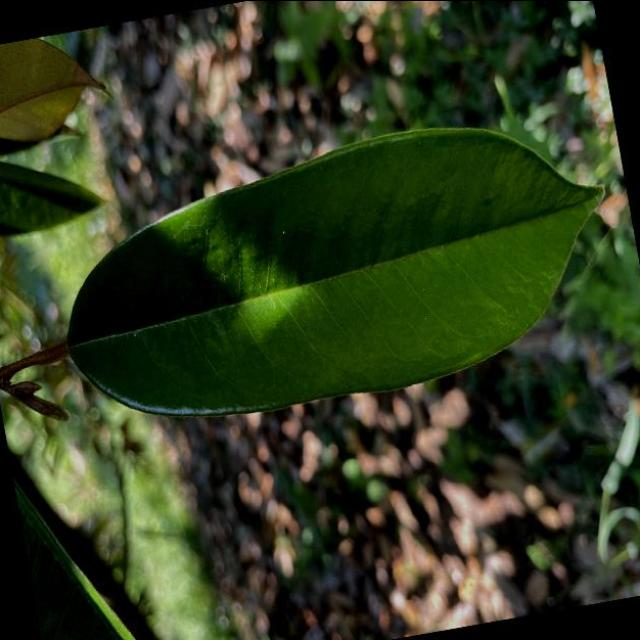No Disease: (30, 87, 640, 455)
